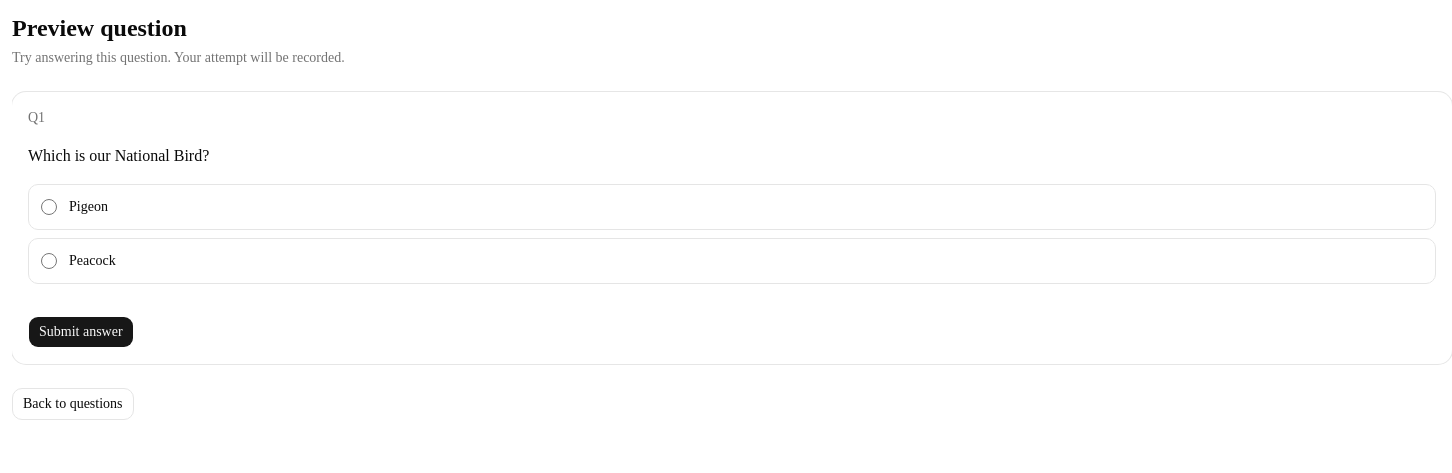
Test: McqPreview › requires a choice before submitting
Click the button "Submit answer": (81, 332) [28,316,134,348]
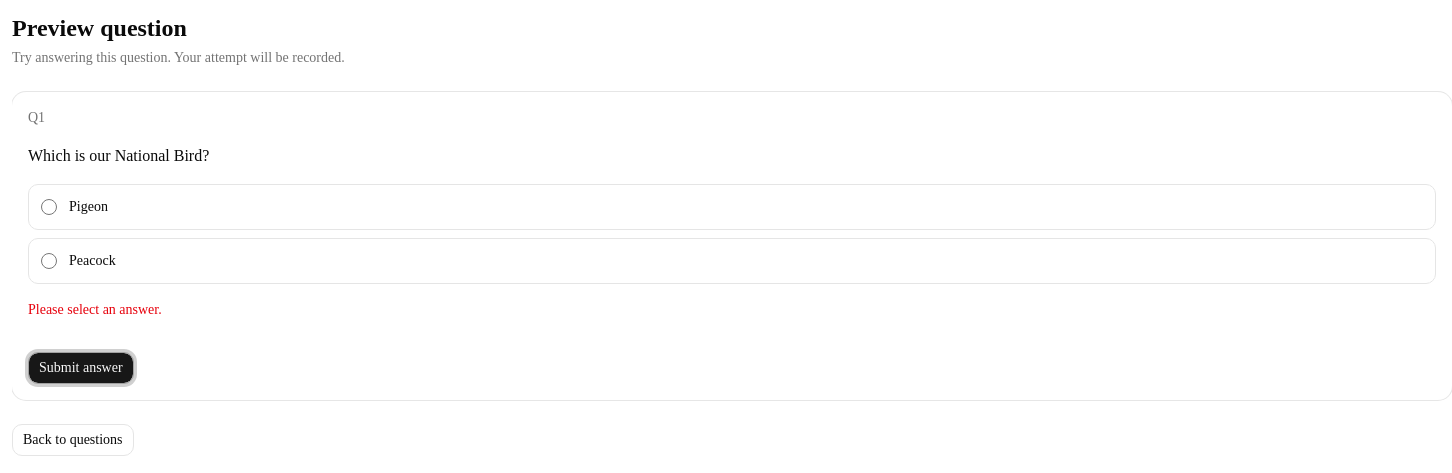
Expected: the text "Please select an answer." is shown, [28,302,162,317]
